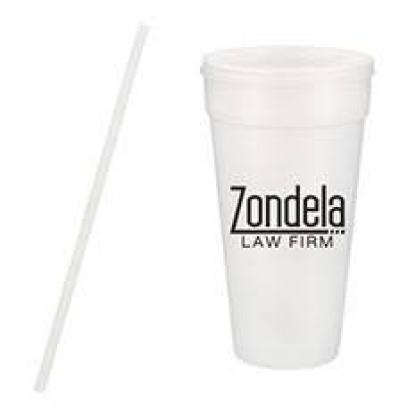paper: (200, 45, 373, 367)
